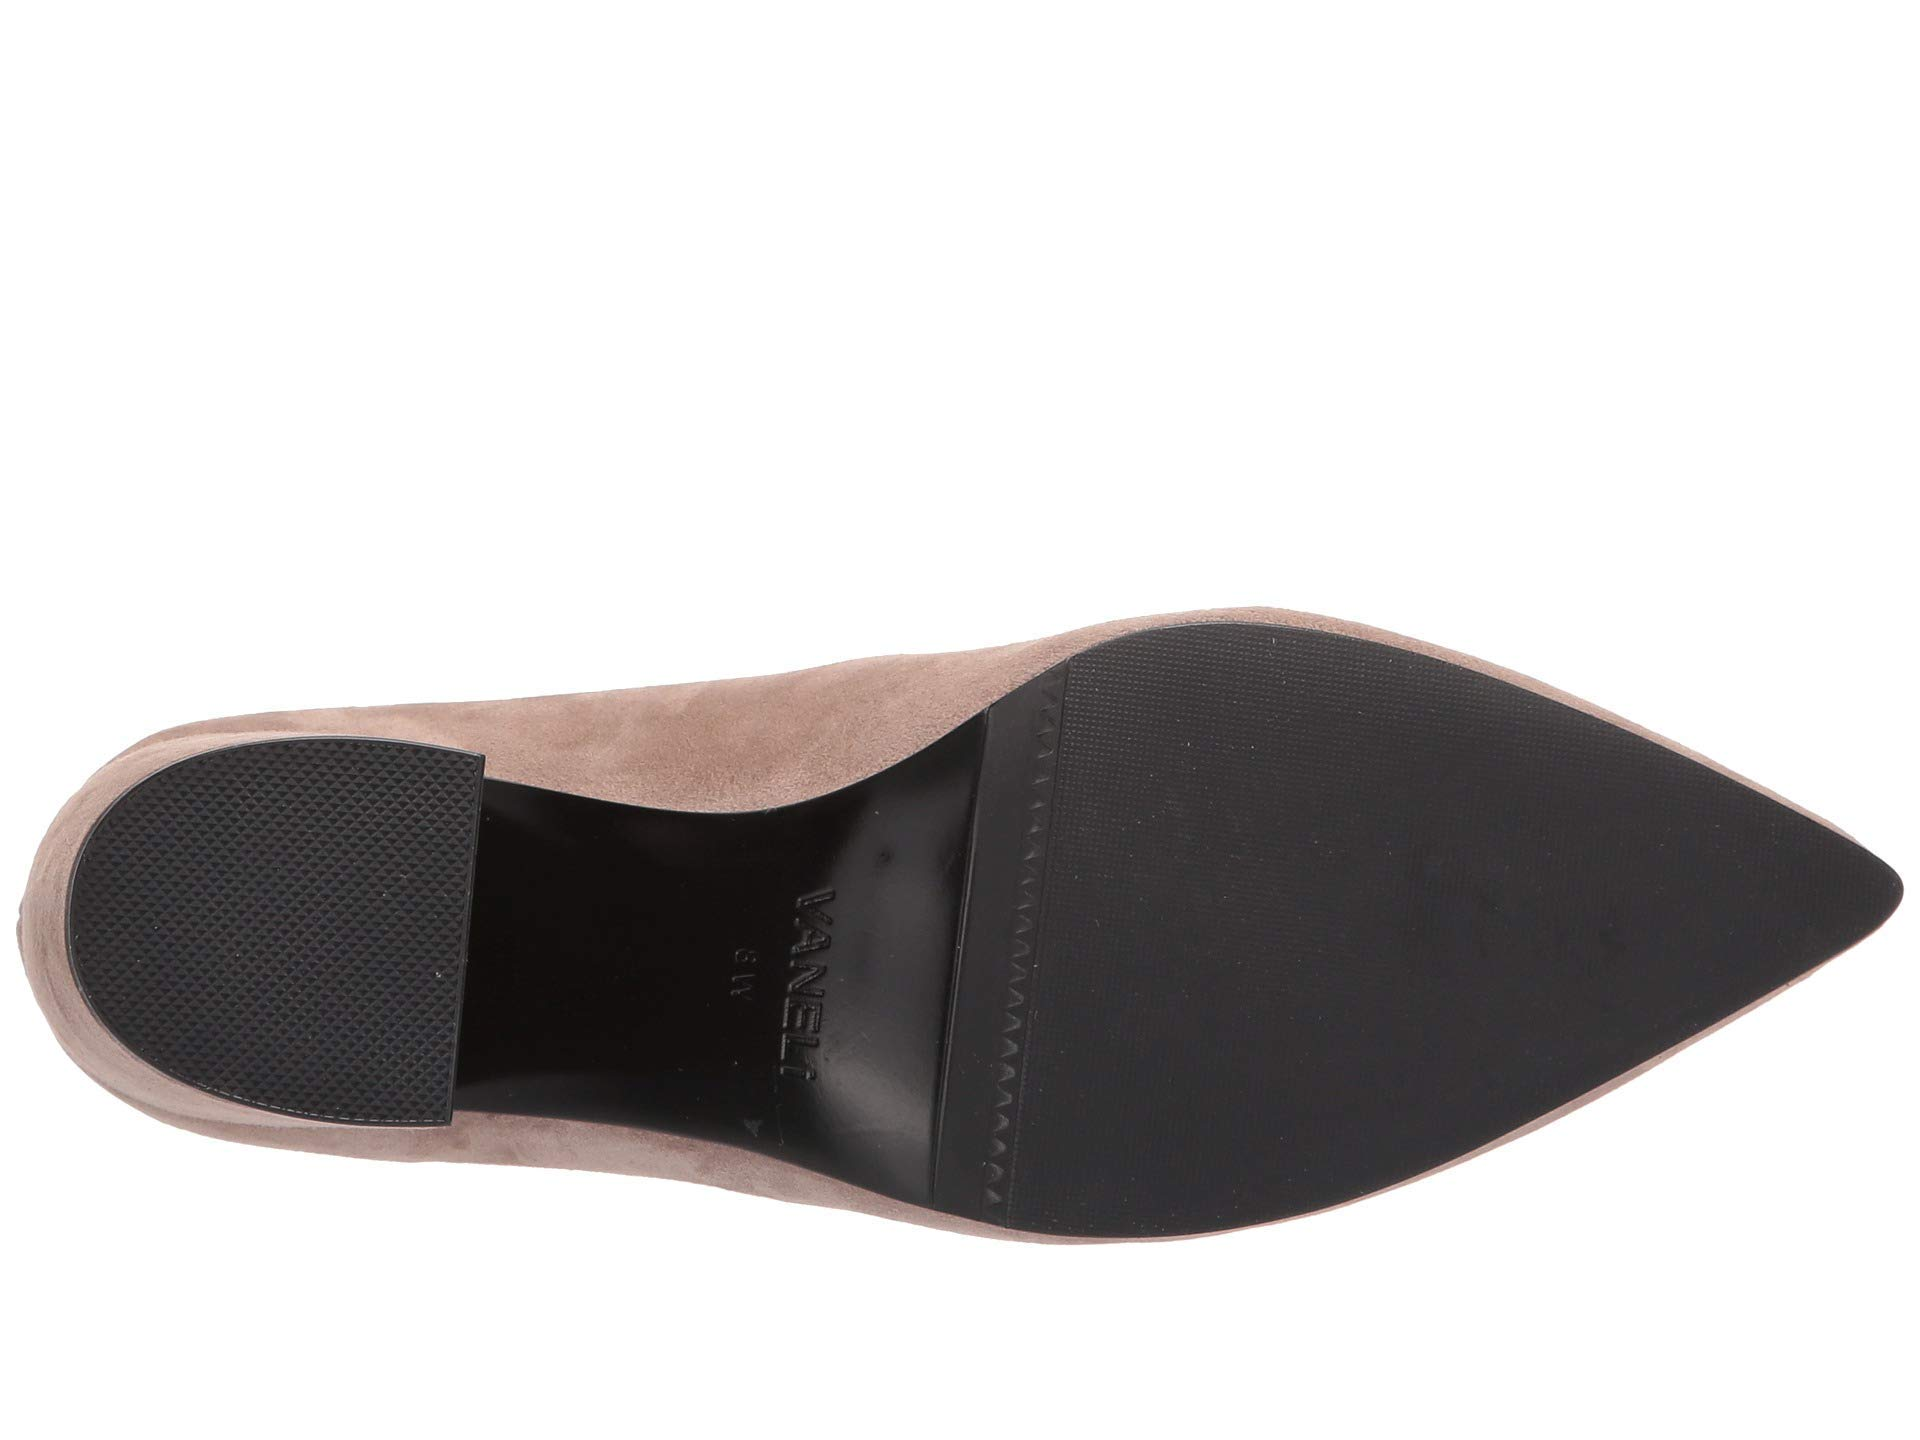exclude: (449, 718, 968, 1221)
quad: (163, 770, 413, 988)
triangle: (971, 711, 1090, 1189)
